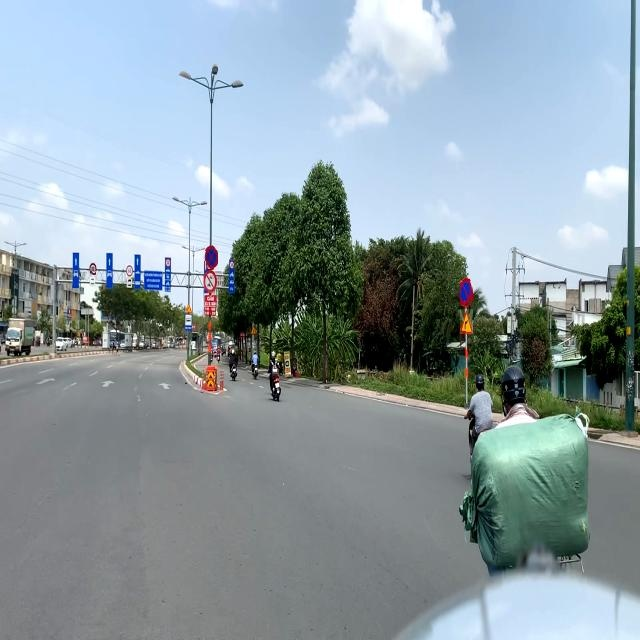bien_chi_dan: (460, 278, 473, 308), (203, 245, 218, 270), (460, 309, 473, 334), (126, 264, 133, 277), (90, 262, 96, 276)
